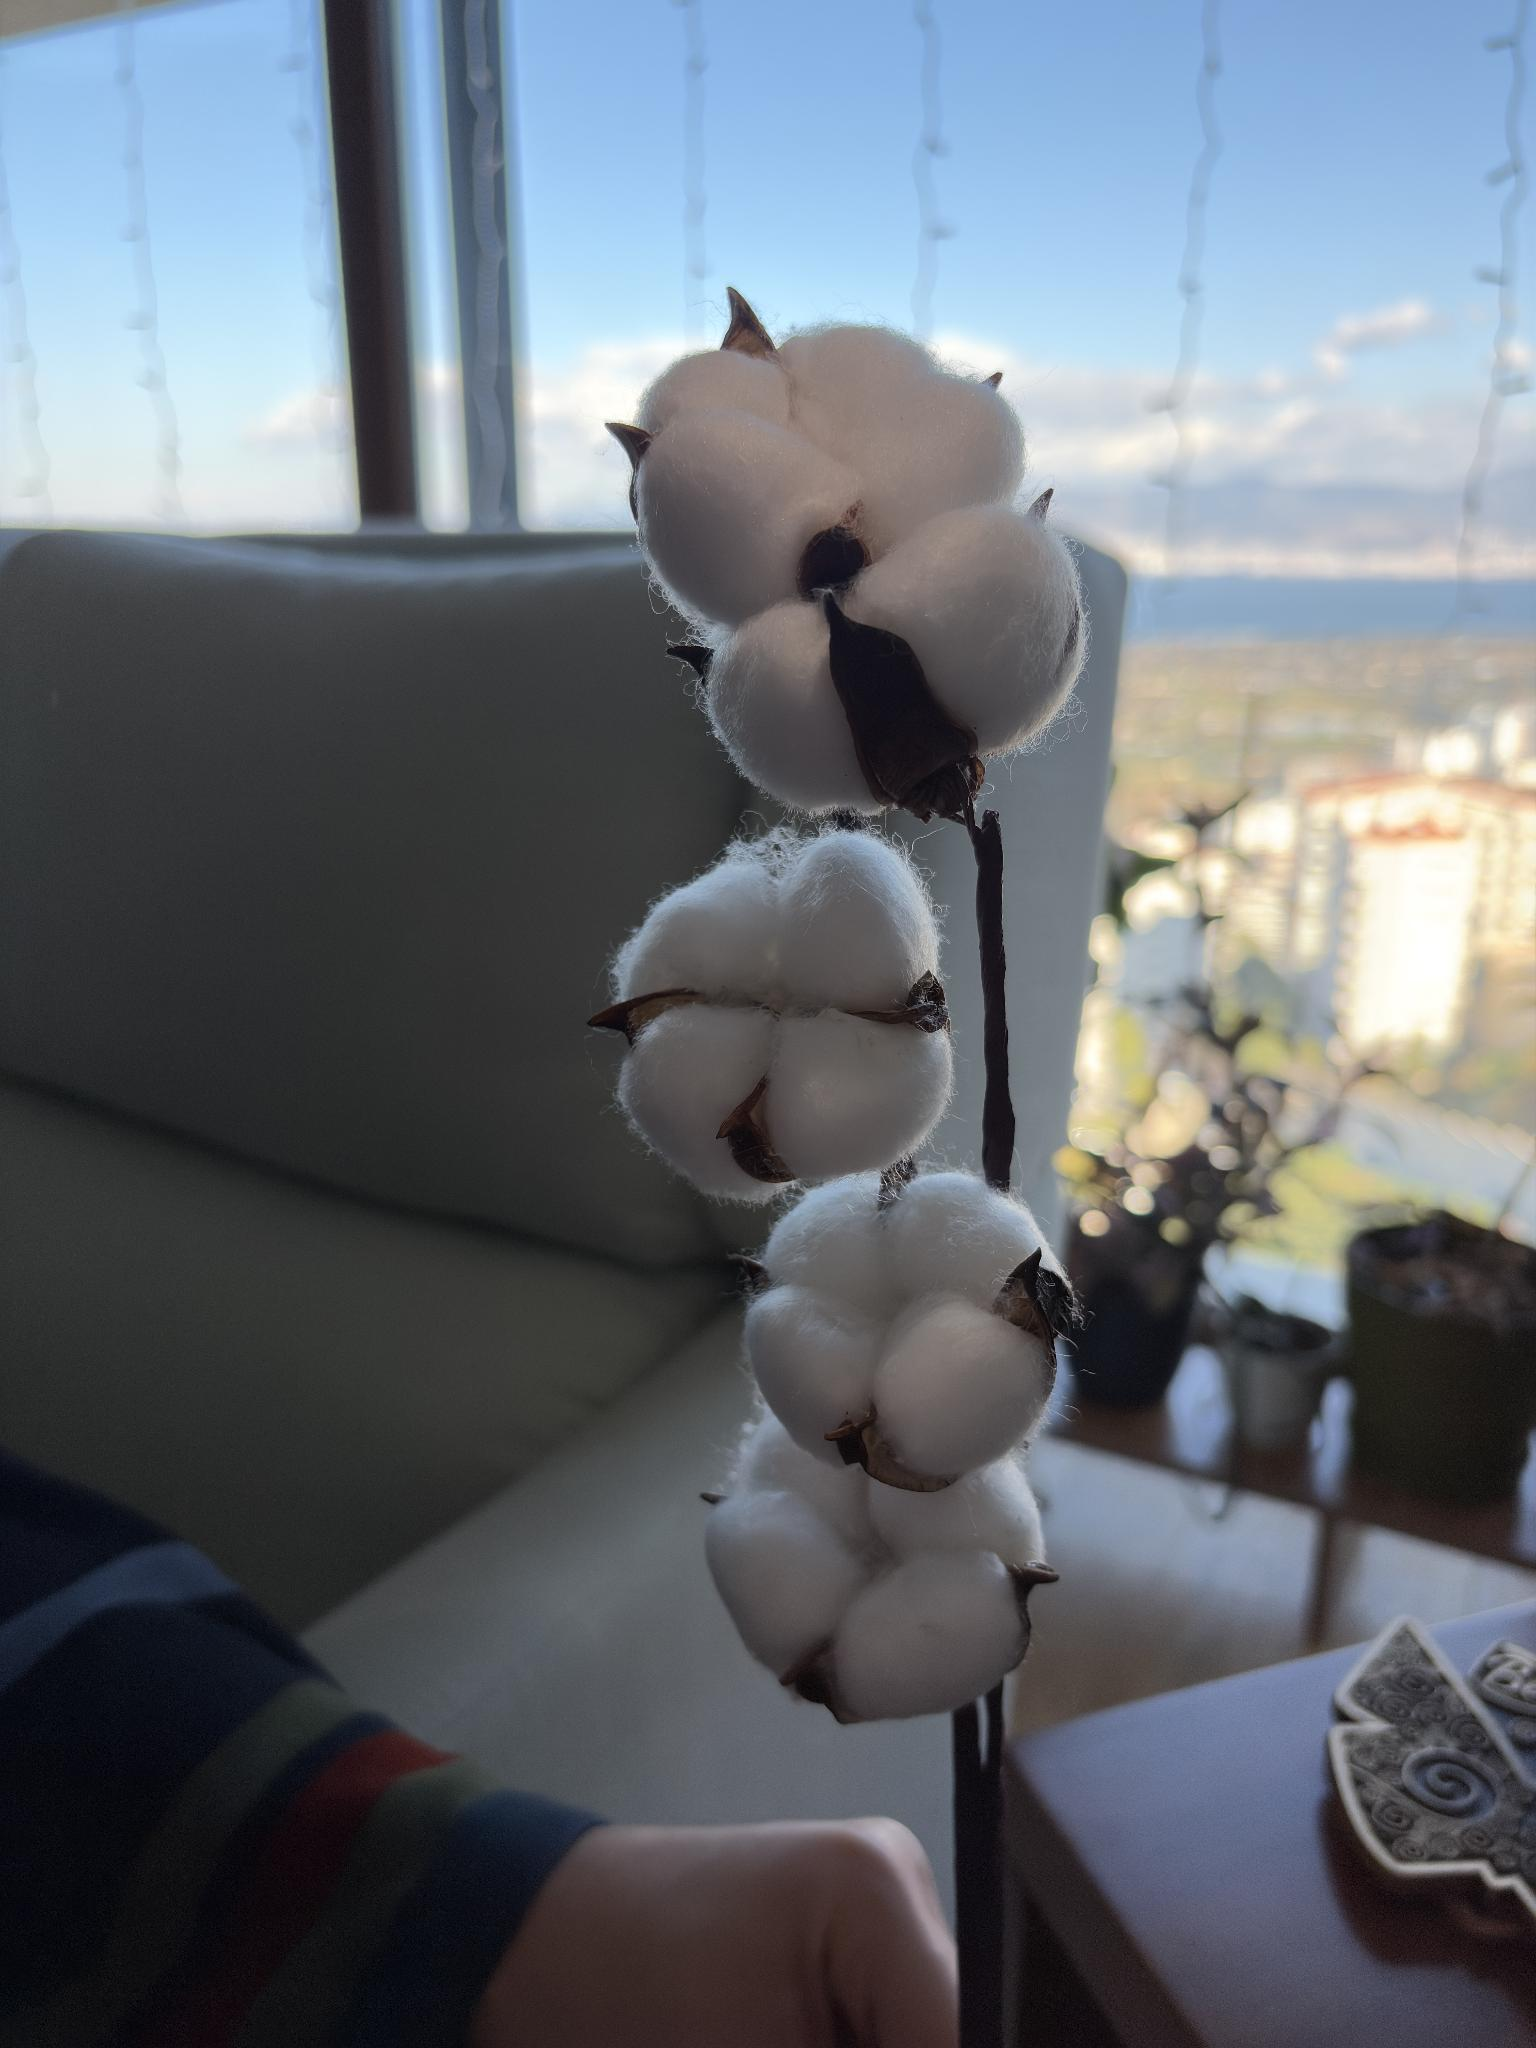cotton_boll: (849, 506, 1086, 753), (634, 408, 862, 626), (707, 600, 879, 813), (873, 1297, 1054, 1479), (760, 1009, 952, 1180), (834, 1550, 1028, 1719), (618, 1003, 776, 1200), (705, 1487, 865, 1680), (847, 376, 1025, 547), (776, 830, 937, 1013), (613, 847, 778, 1003), (745, 1282, 884, 1463), (778, 326, 945, 464), (731, 1409, 891, 1548), (886, 1172, 1042, 1309), (868, 1455, 1046, 1569), (760, 1174, 894, 1314), (634, 348, 789, 432), (854, 1101, 855, 1103)
cotton_boll-cluster: (615, 306, 1097, 835), (603, 826, 960, 1219), (702, 1388, 1052, 1737), (747, 1158, 1079, 1506)
